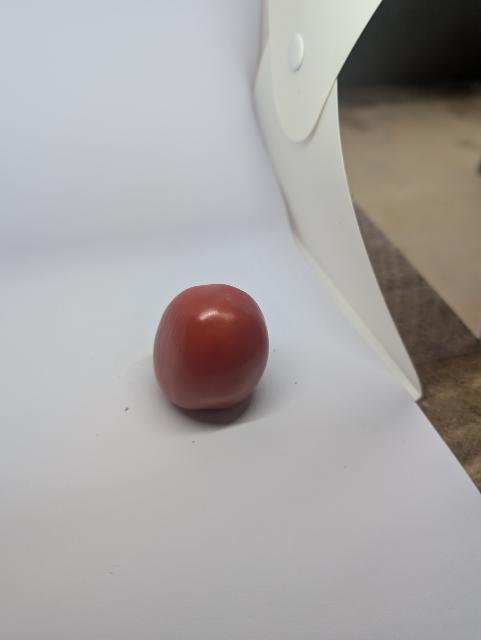red: (147, 267, 288, 425)
